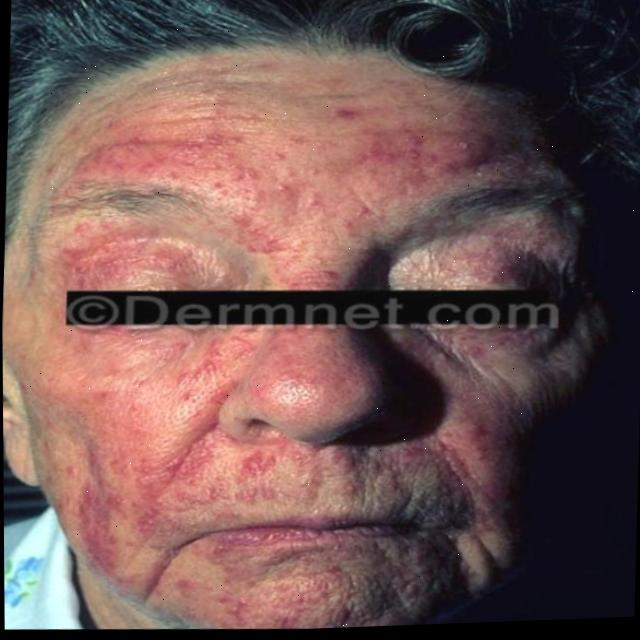Rosacea: (44, 364, 275, 636), (79, 85, 470, 232)
